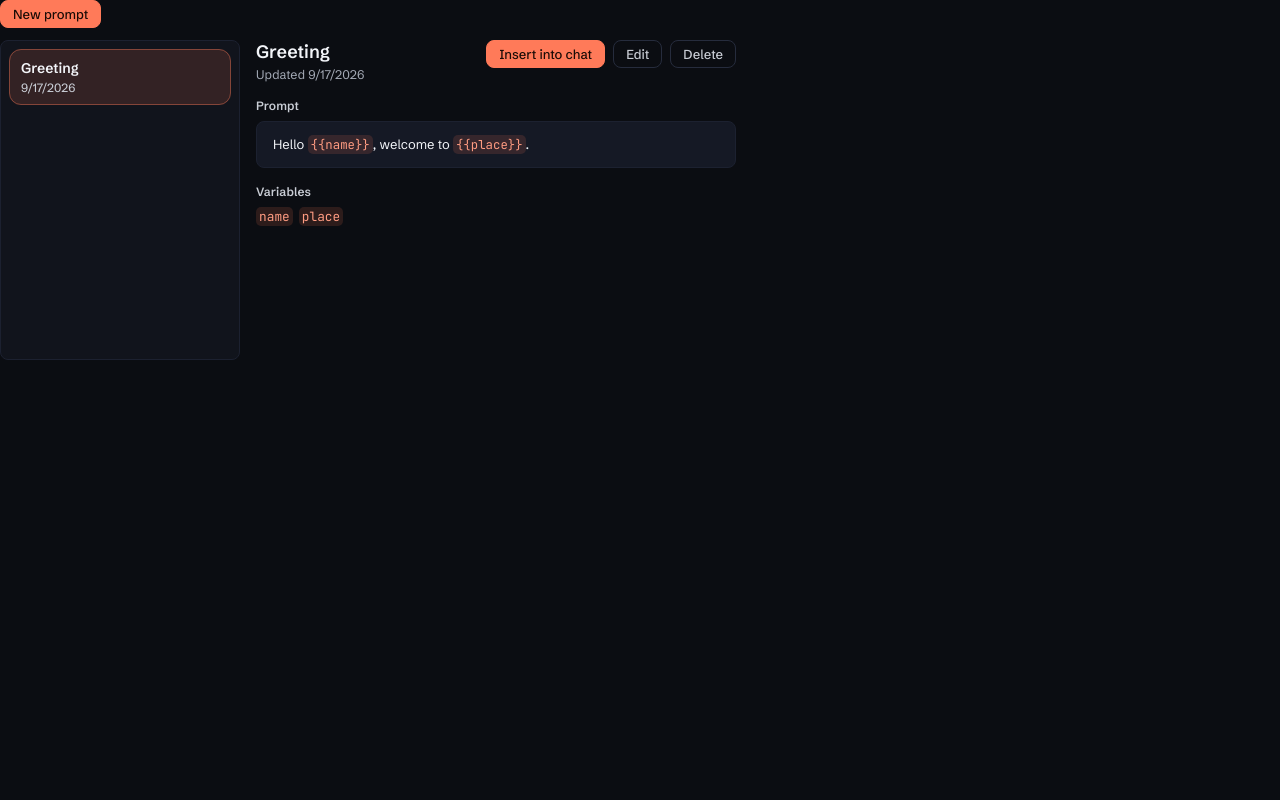
Test case: inserting a prompt that declares variables › asks for the values instead of inserting the raw tokens
Expected: the heading "Greeting" is shown, [256,40,330,63]
Step 1. Click the button "Insert into chat" → x=546, y=54, box [486,40,605,68]
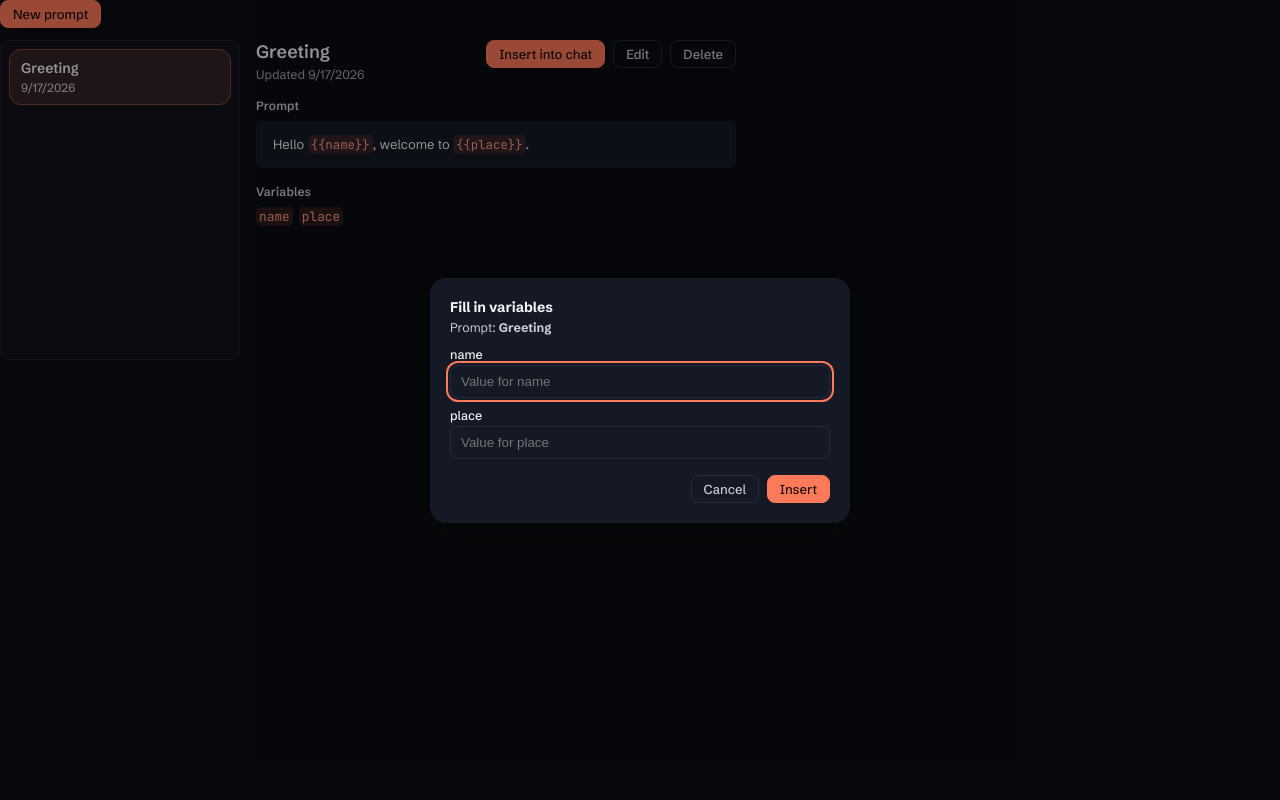
Expected: the field labelled "name" is shown, [450,364,830,398]
